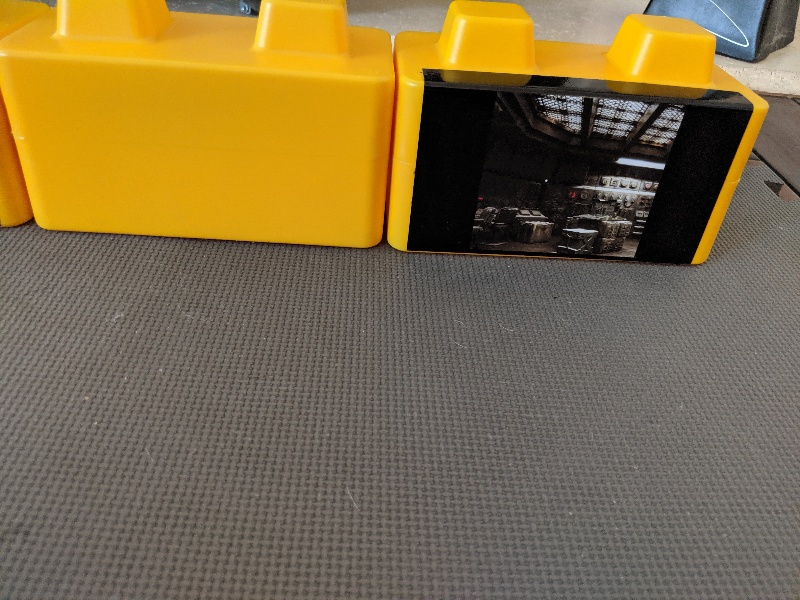Skystone: (398, 62, 758, 272)
